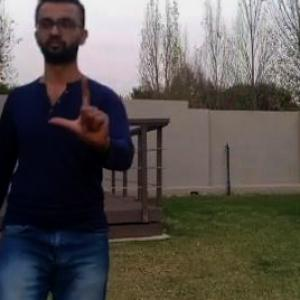land_hand: (55, 78, 122, 158)
